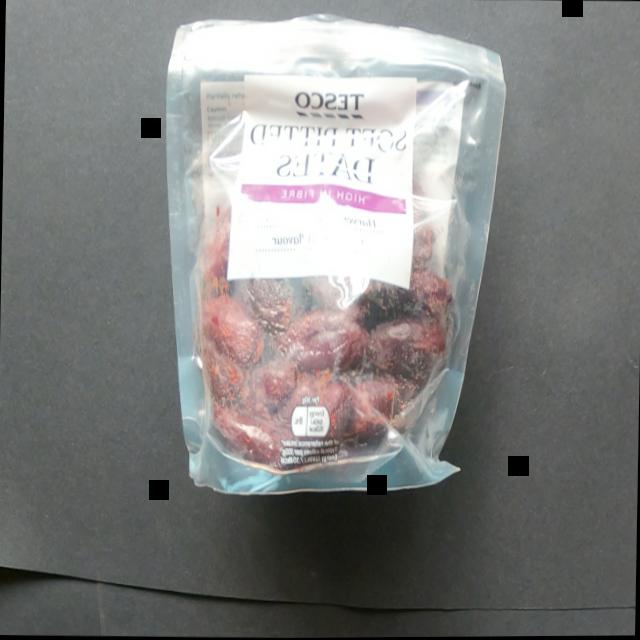Medjooldates: (122, 0, 524, 534)
